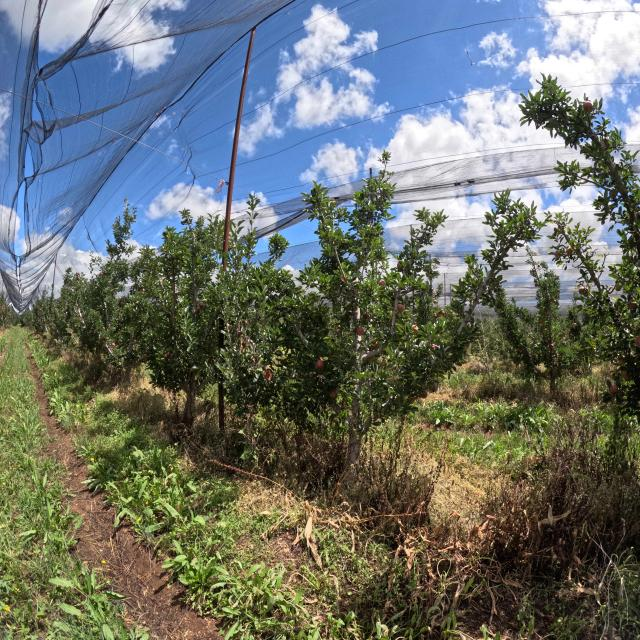-FireBlight-: (231, 318, 275, 382)
